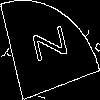Z: (24, 24, 68, 67)
